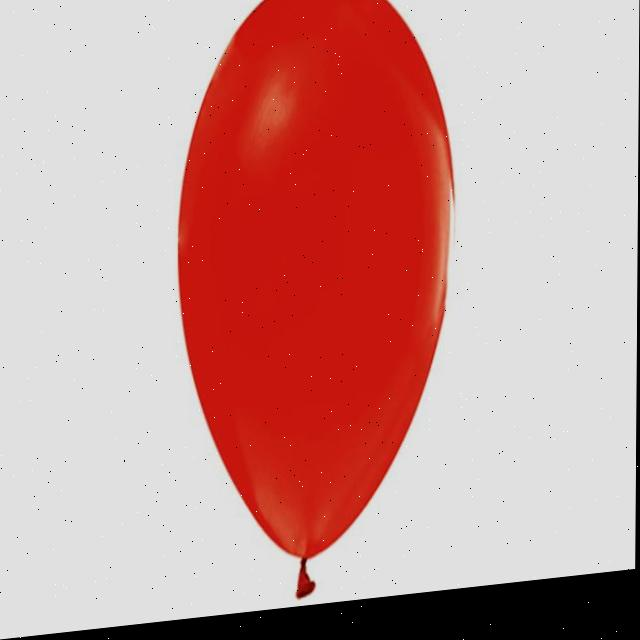balloon: (175, 0, 462, 607)
